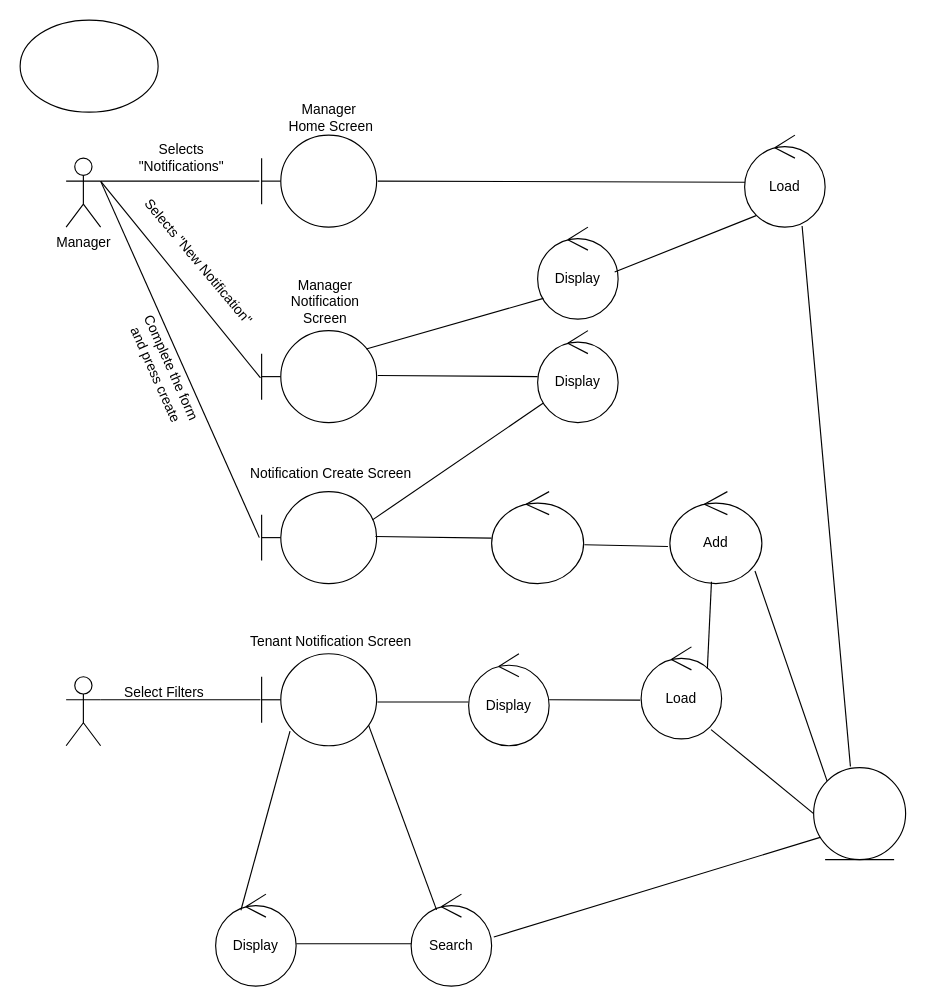
The diagram is 926 pixels wide and 1006 high, and some of its shapes have lost their labels. Each missing label, with the centre of its shape:
Add Announcement: point (88, 65)
Create: point (537, 537)
Notification List: point (859, 813)
Ten ant: point (83, 711)
